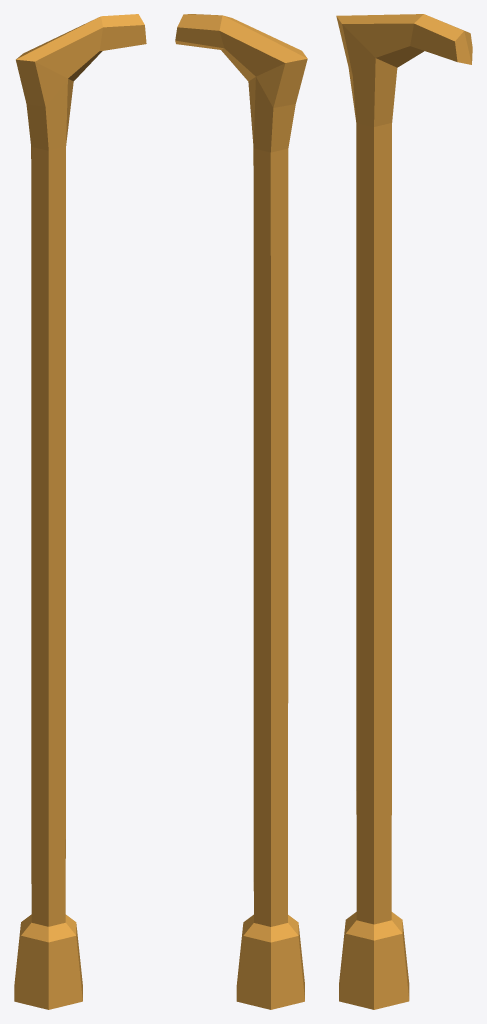
File: tools-cane.glb
3 renders of one model, left to right at view 1: azimuth 30°, elevation 25°; view 2: azimuth 150°, elevation 25°; view 3: azimuth 330°, elevation 25°, orthographic. The views are drawn at different scales.
Parts seen in each view (by area): view 1: cane; view 2: cane; view 3: cane.
Boxes of the visible parts, x1,y1,x2,y2 form: cane: [14, 14, 146, 1009]; cane: [175, 14, 307, 1009]; cane: [336, 14, 472, 1009].
Size of the model in its own units: 0.1436 by 1.01 by 0.065.
